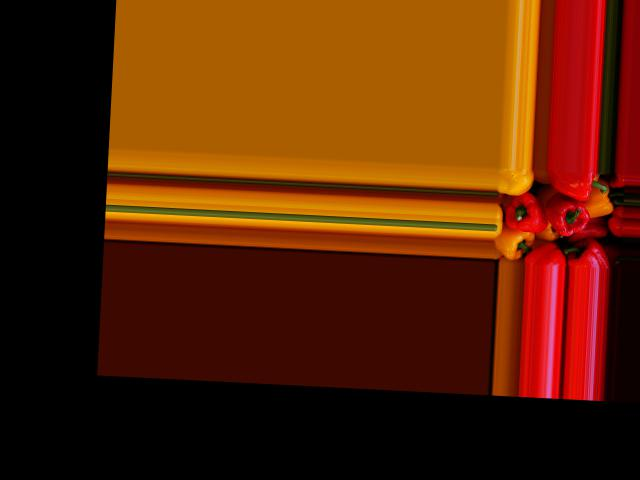bell_pepper: (494, 224, 531, 257)
